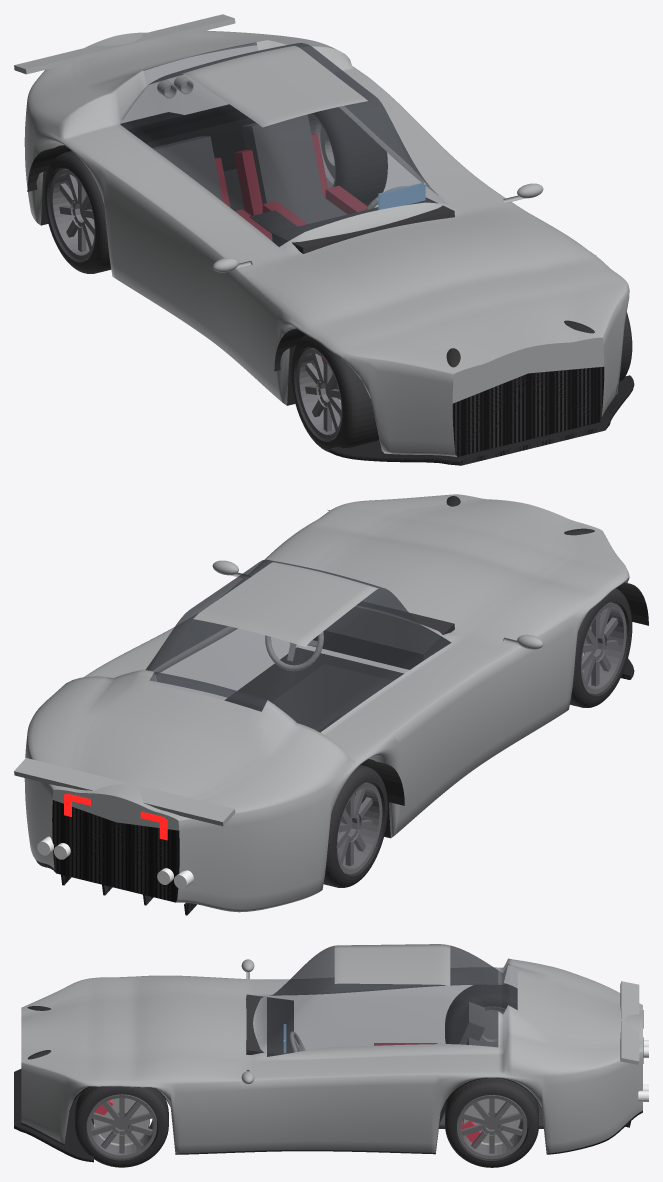
The model's file is aston-martin-dbs-superleggera.glb.
3 views of the same model, one above another, from view 1: azimuth 30°, elevation 25°; view 2: azimuth 150°, elevation 25°; view 3: azimuth 270°, elevation 25° (orthographic). The views are drawn at different scales.
Visible parts, largest first — view 1: Body_PrimaryPaint, Glass_Windows, Carbon_Exterior, Interior_Seats, Underbody, Tire_RL, Tire_FR, Interior_SeatBolsters, Rim_FR, Rim_RR, Tire_RR, Body_Spoiler (+3 smaller); view 2: Body_PrimaryPaint, Glass_Windows, Carbon_Exterior, Interior_Dashboard, WheelWells, Body_Spoiler, Interior_Tub, Rim_FR, Rim_RR, Tire_RR, Tire_FR, Chrome_Trim (+3 smaller); view 3: Body_PrimaryPaint, Glass_Windows, Tire_RL, Tire_FL, Rim_FL, Rim_RL, Interior_Dashboard, Tire_RR, Carbon_Exterior, Body_Spoiler, Underbody, Interior_Seats (+3 smaller).
Part boxes in pixels (bbox=[...]): Body_PrimaryPaint: bbox=[24, 30, 629, 456]; Glass_Windows: bbox=[120, 42, 447, 246]; Carbon_Exterior: bbox=[120, 112, 634, 465]; Interior_Seats: bbox=[152, 114, 346, 223]; Underbody: bbox=[41, 104, 615, 410]; Tire_RL: bbox=[312, 107, 387, 205]; Tire_FR: bbox=[291, 334, 379, 452]; Interior_SeatBolsters: bbox=[214, 134, 367, 241]; Rim_FR: bbox=[296, 348, 342, 439]; Rim_RR: bbox=[50, 168, 95, 260]; Tire_RR: bbox=[44, 151, 111, 273]; Body_Spoiler: bbox=[14, 14, 235, 74]; Body_PrimaryPaint: bbox=[24, 494, 629, 912]; Glass_Windows: bbox=[145, 559, 451, 732]; Carbon_Exterior: bbox=[52, 658, 634, 915]; Interior_Dashboard: bbox=[308, 601, 454, 669]; WheelWells: bbox=[224, 510, 648, 805]; Body_Spoiler: bbox=[14, 758, 235, 826]; Interior_Tub: bbox=[260, 664, 392, 721]; Rim_FR: bbox=[581, 602, 626, 694]; Rim_RR: bbox=[336, 782, 382, 874]; Tire_RR: bbox=[323, 765, 387, 887]; Tire_FR: bbox=[570, 588, 632, 707]; Chrome_Trim: bbox=[37, 836, 193, 888]; Body_PrimaryPaint: bbox=[21, 944, 642, 1153]; Glass_Windows: bbox=[267, 945, 517, 1056]; Tire_RL: bbox=[445, 1078, 538, 1167]; Tire_FL: bbox=[75, 1086, 168, 1167]; Rim_FL: bbox=[86, 1094, 156, 1158]; Rim_RL: bbox=[457, 1095, 527, 1159]; Interior_Dashboard: bbox=[246, 994, 293, 1056]; Tire_RR: bbox=[445, 983, 517, 1043]; Carbon_Exterior: bbox=[14, 1069, 631, 1162]; Body_Spoiler: bbox=[620, 981, 639, 1064]; Underbody: bbox=[21, 1078, 642, 1154]; Interior_Seats: bbox=[439, 1002, 484, 1124].
Size of the model in its own units: 2.17 by 1.28 by 4.81.
16 materials, 2 textured.
